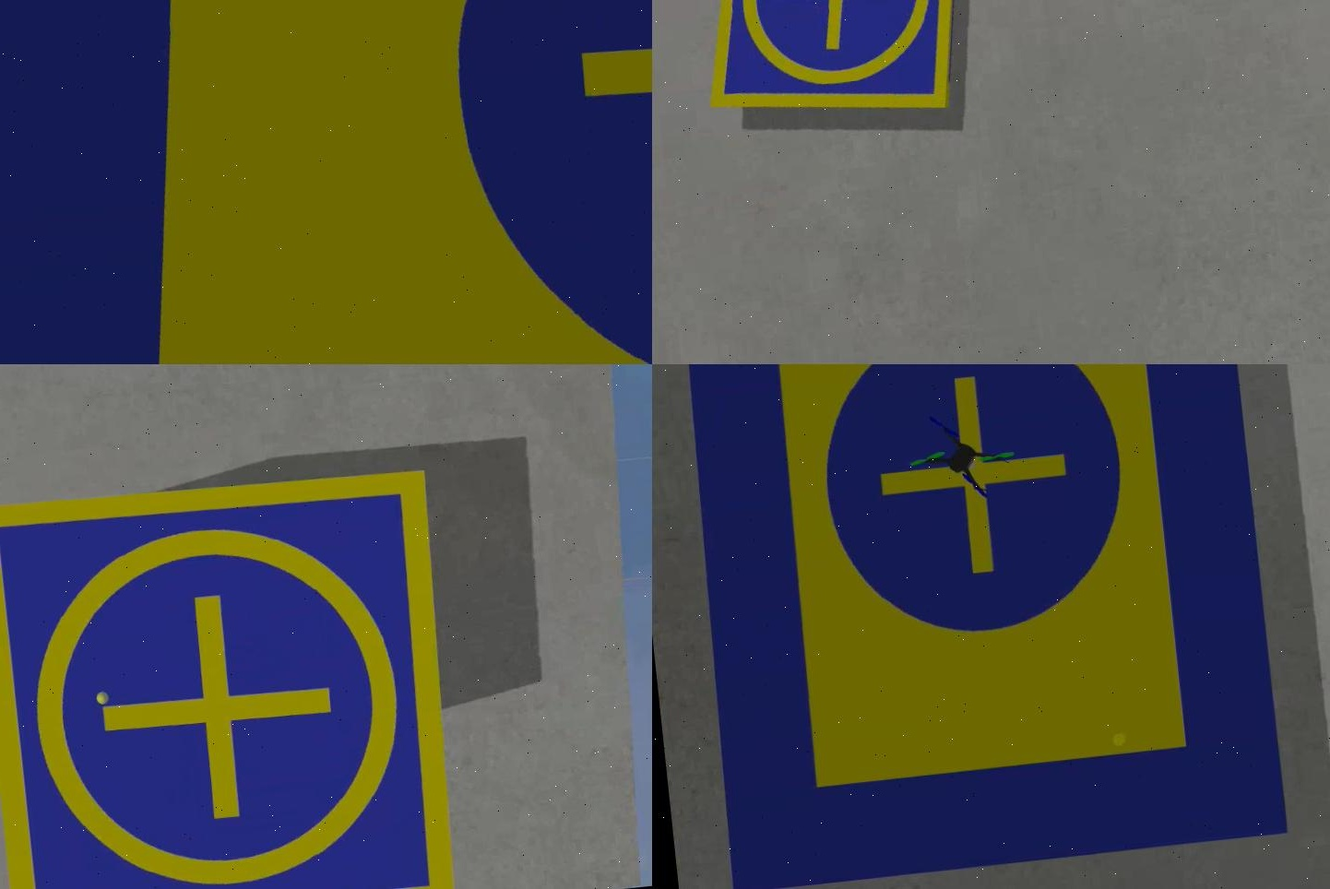large_base: (665, 365, 1290, 889), (0, 1, 651, 365)
small_base: (0, 460, 472, 889), (686, 1, 985, 137)
